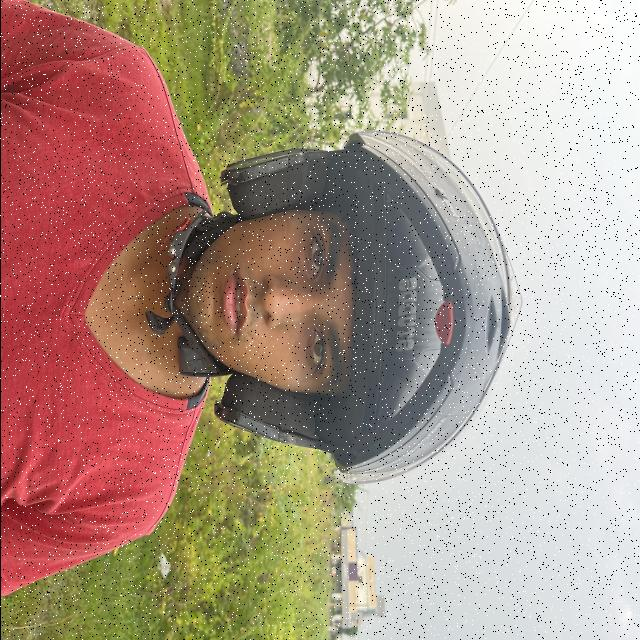Helmet: (214, 132, 520, 483)
